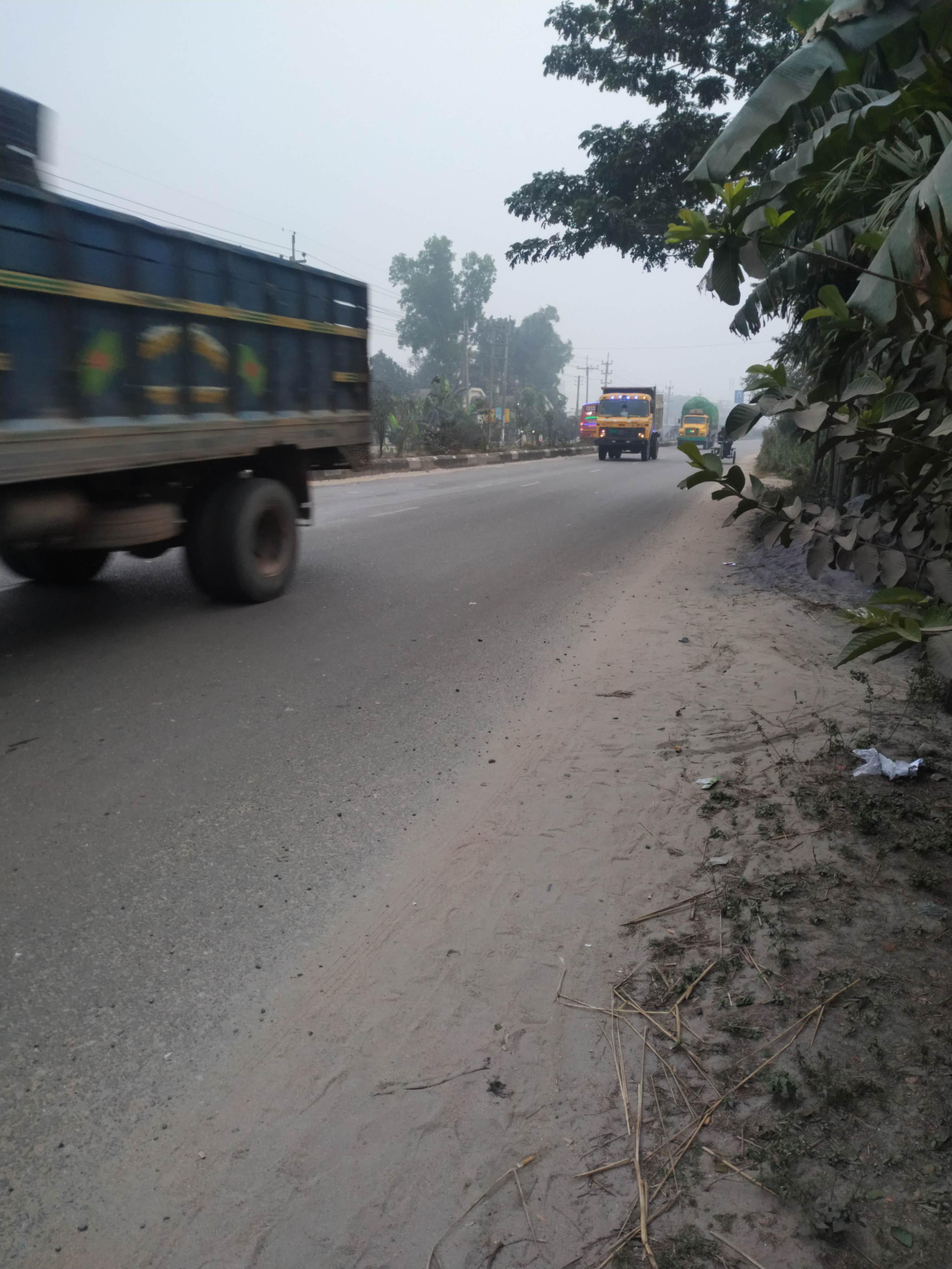Truck: (0, 73, 436, 621), (584, 377, 678, 470), (674, 390, 731, 464)
